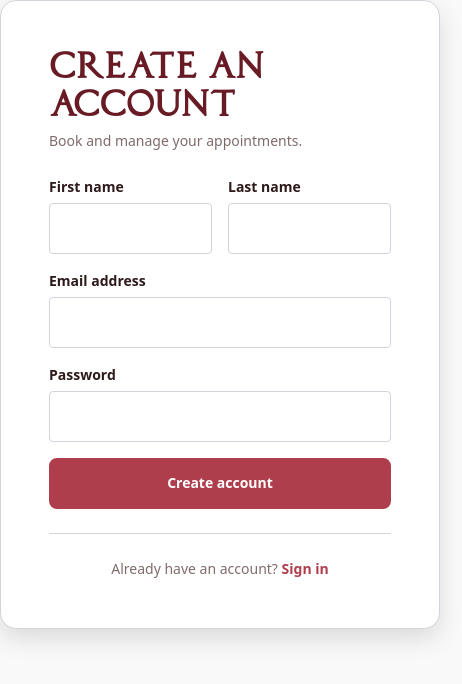
Test case: SignupPage — validation › shows an error when first name is missing
Step 1. Type "Doe" into the field labelled "Last name" → (310, 228), box [228, 203, 391, 254]
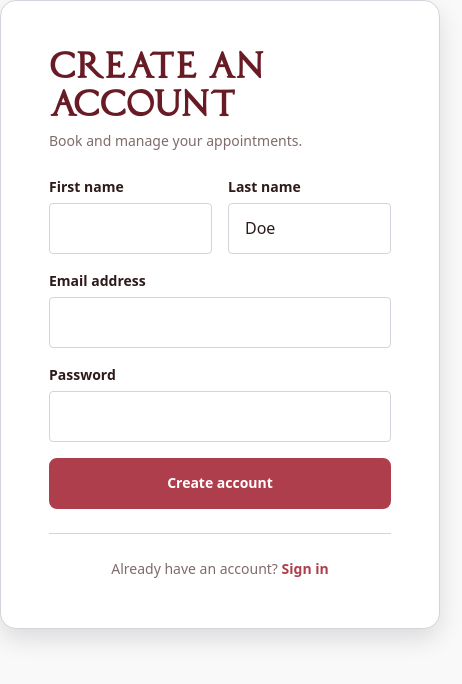
Step 2. Type "jane@example.com" into the field labelled "Email address" → (220, 322), box [49, 296, 391, 348]
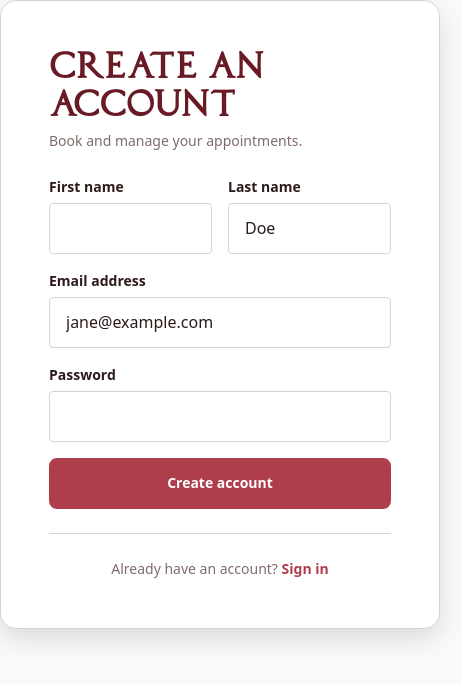
Step 3. Type "Password1" into the password field labelled "Password" → (220, 416), box [49, 390, 391, 442]
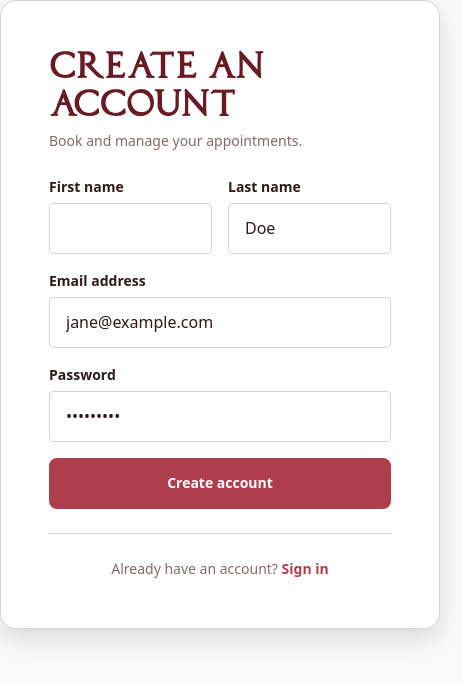
Step 4. Click the button "Create account" → click(220, 483), box [49, 458, 391, 508]
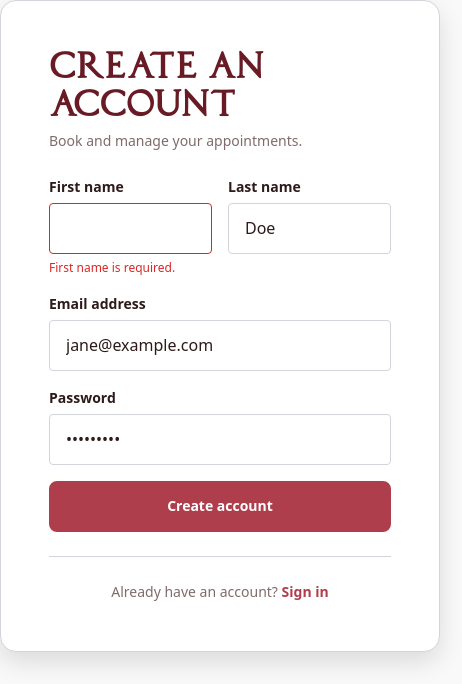
Now the text "First name is required." is shown, box [49, 259, 175, 276]
